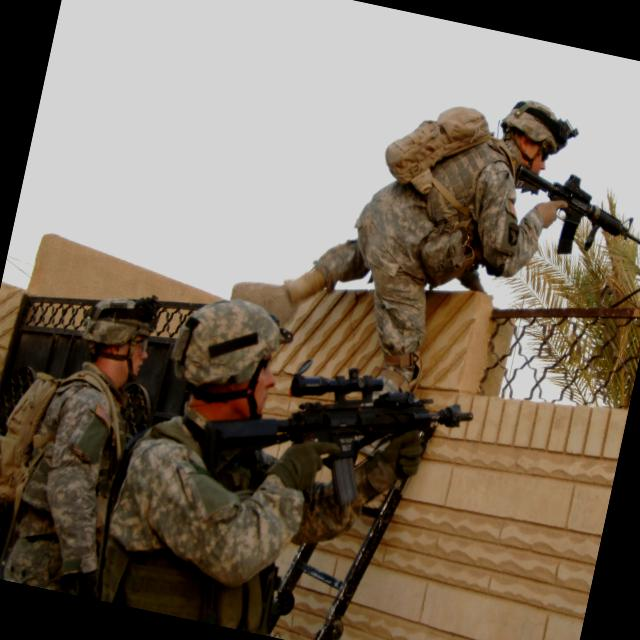long weapon: (254, 342, 491, 526), (501, 152, 639, 270)
